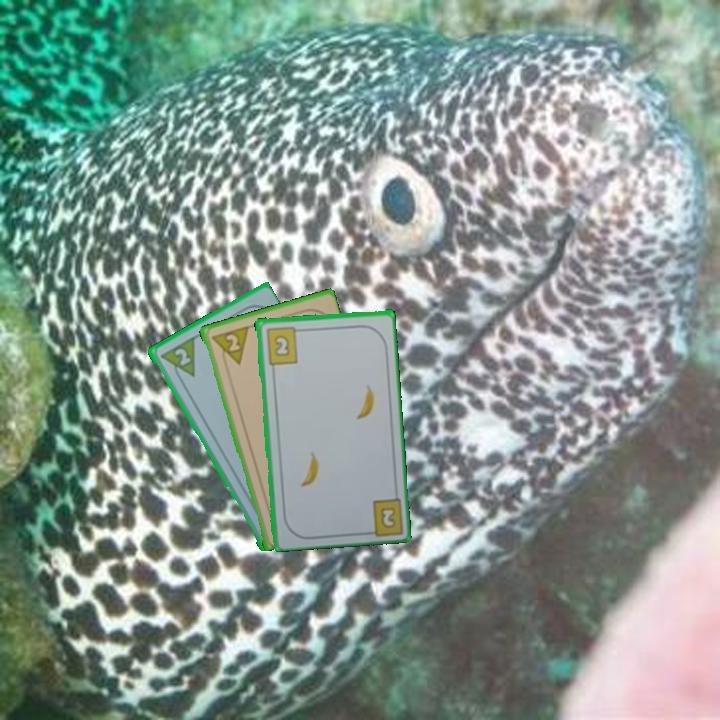2b: (262, 323, 304, 367), (377, 503, 398, 531)
2p: (156, 334, 198, 386), (207, 322, 251, 370)
